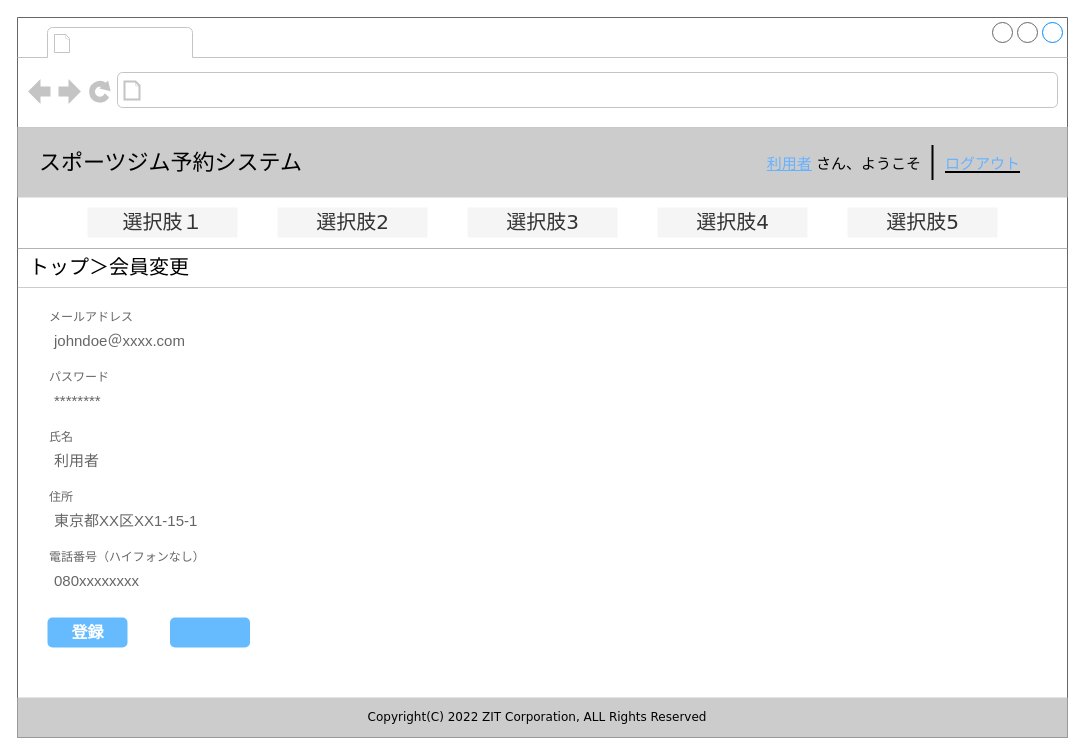
Image size: 1085x755. Some labels were removed from this diagram. Here are the shapes that lost their labels. From the top down, the centre of each, then its label:
At [132,42]: "会員変更画面".
At [272,90]: "http://127.0.0.1:xxxx/xxxx".
At [210,632]: "戻る".
